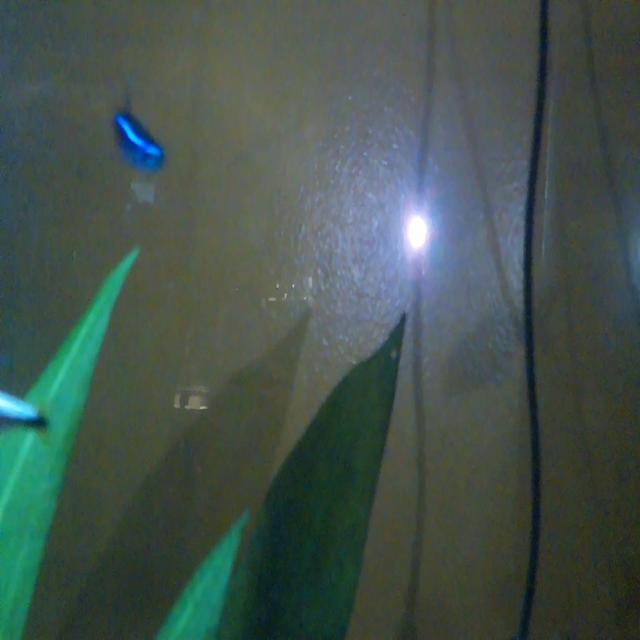fish: (95, 83, 173, 179)
